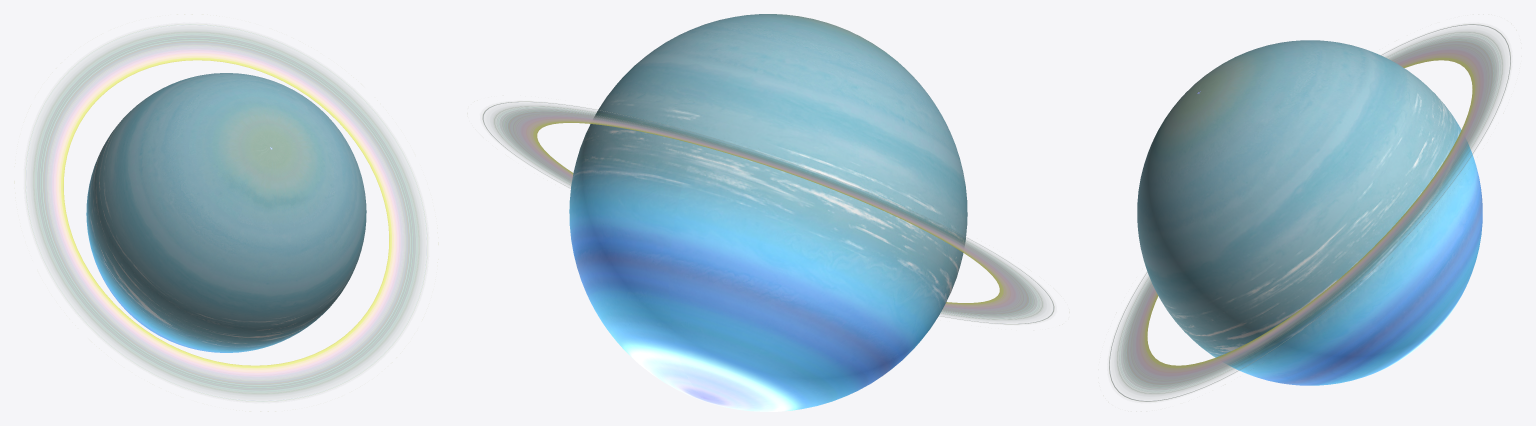
The model's file is uranus.gltf.
The picture shows the model from 3 angles, left to right: view 1: azimuth 30°, elevation 25°; view 2: azimuth 150°, elevation 25°; view 3: azimuth 270°, elevation 25°; orthographic projection. The views are drawn at different scales.
Visible parts, largest first — view 1: Uranus_7; view 2: Uranus_7; view 3: Uranus_7.
Boxes of the visible parts, x1,y1,x2,y2 form: Uranus_7: (25, 24, 427, 401); Uranus_7: (482, 14, 1054, 411); Uranus_7: (1109, 24, 1510, 401).
Bounding box in the file's own units: 0.0511 × 0.0329 × 0.0392.
2 materials, 2 textured.
